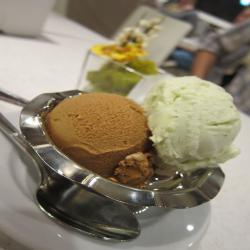icecream: (49, 77, 236, 177)
